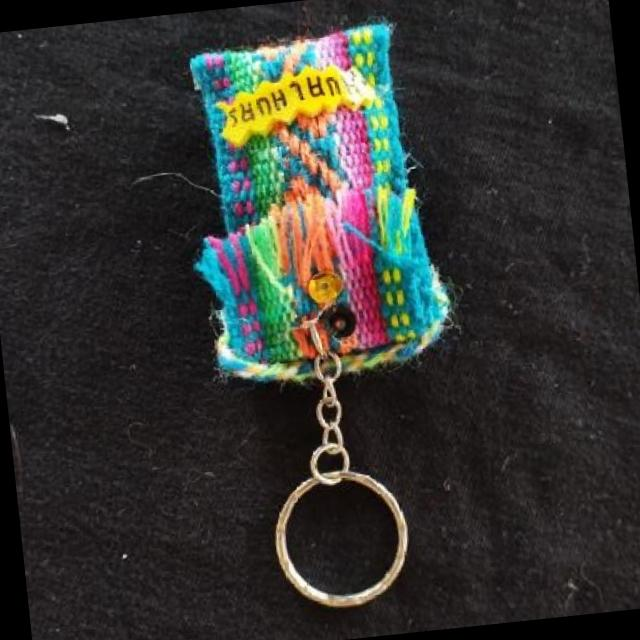Llavero: (169, 15, 459, 394)
